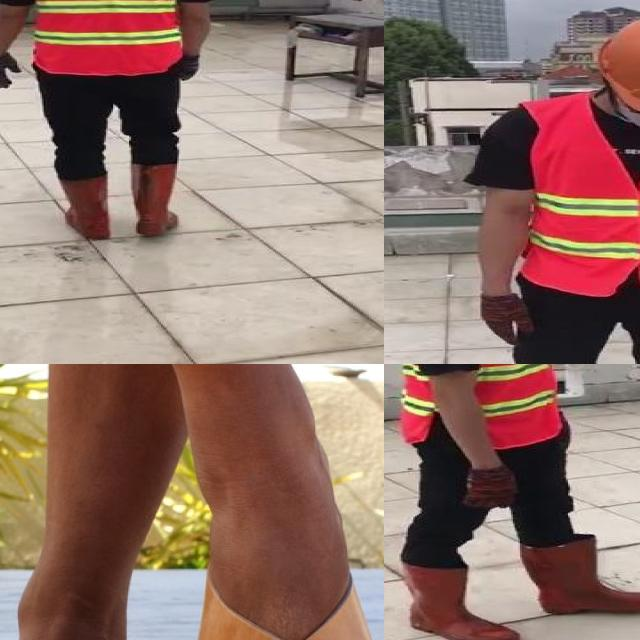Sandals: (192, 453, 384, 640), (0, 565, 211, 640)
boots: (393, 563, 516, 640), (514, 539, 640, 613), (54, 177, 113, 242), (130, 163, 180, 236)
hand_glove: (475, 291, 535, 345), (463, 469, 518, 507), (0, 54, 22, 89), (177, 54, 202, 81), (565, 415, 575, 445)
head_helmet: (598, 12, 640, 117)
person: (384, 364, 640, 640), (472, 15, 640, 364), (0, 0, 225, 246)
vest: (525, 95, 640, 293), (399, 364, 561, 447), (17, 0, 184, 73)
